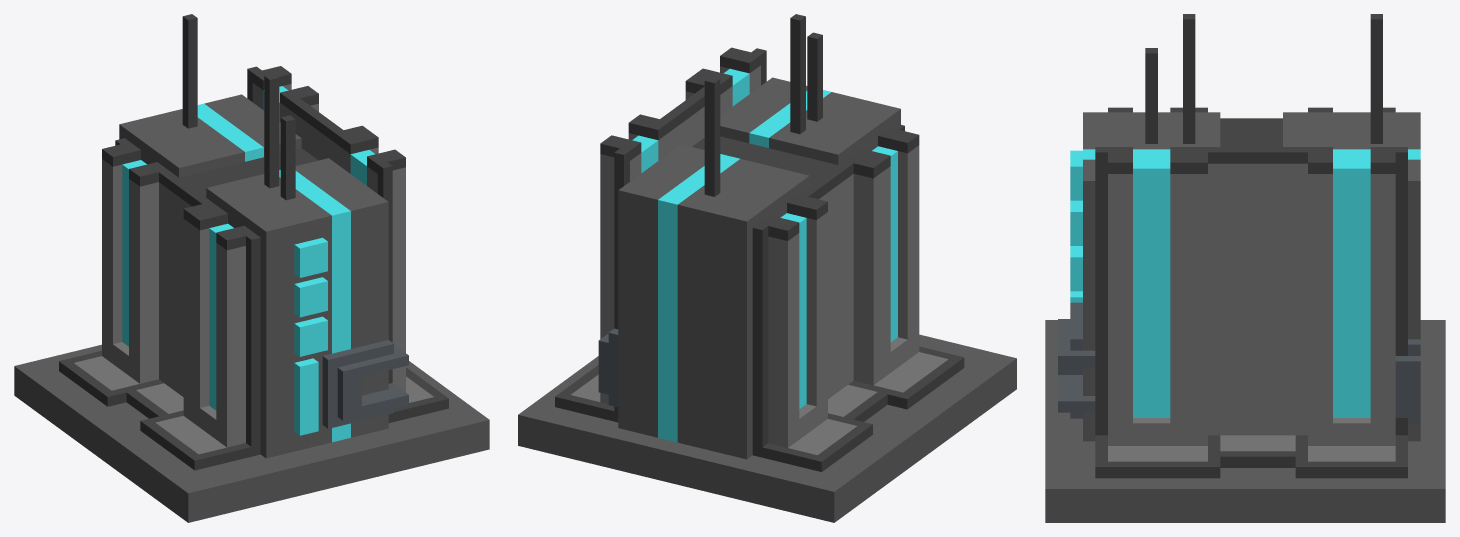
File: _g_house.obj
The picture shows the model from 3 angles, left to right: view 1: azimuth 30°, elevation 25°; view 2: azimuth 150°, elevation 25°; view 3: azimuth 270°, elevation 25°; orthographic projection. The views are drawn at different scales.
Size of the model in its own units: 3.2 by 3.7 by 3.2.
